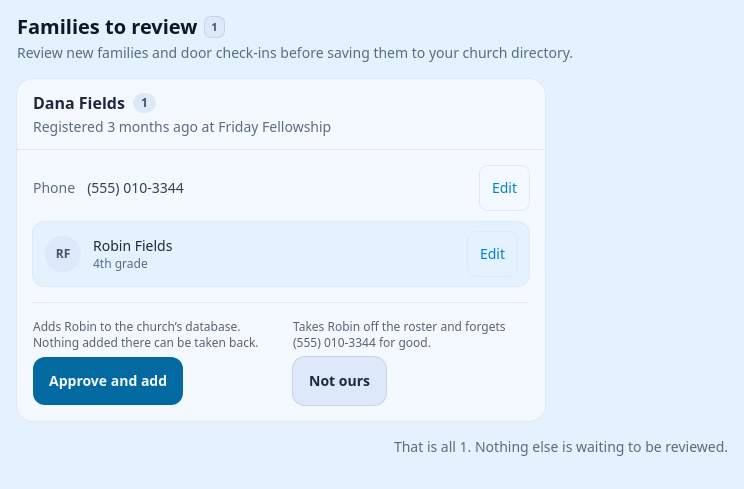
Scenario: the two decisions › cancels instead of sending when the same spot is pressed twice
The width and height of the screenshot is (744, 489).
Click the button "Approve and add".
click(108, 381)  # box [33,357,183,405]
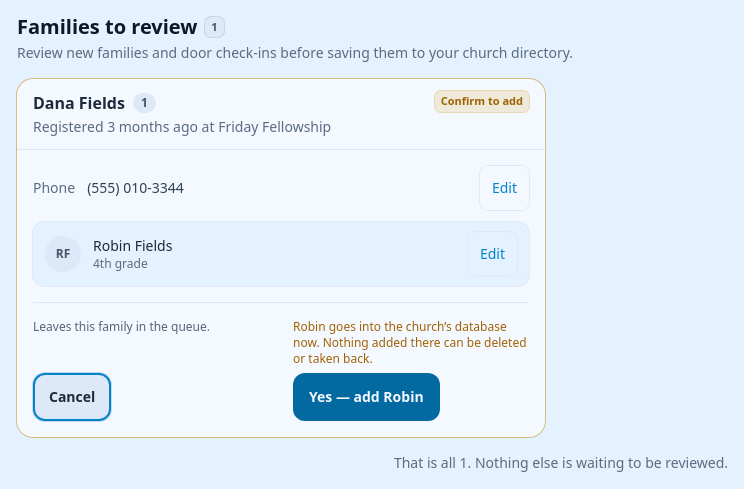
// The rectangle the finger just left now holds Cancel.
Click the button "Cancel".
click(72, 397)  # box [33,373,111,421]
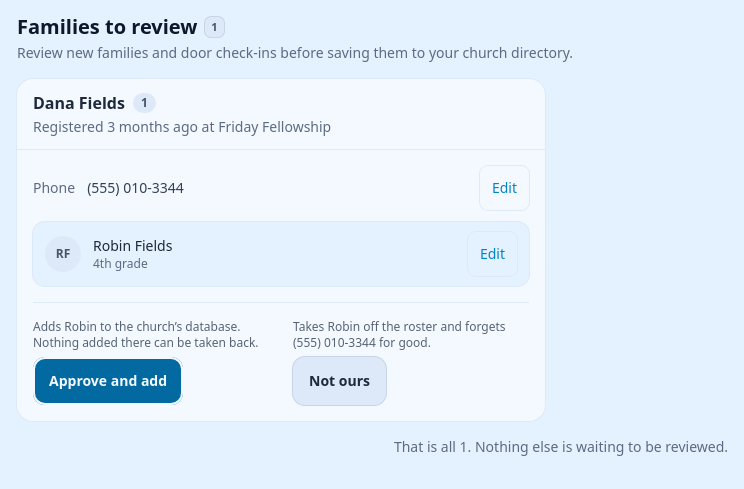
Expected: the button "Approve and add" is shown, [33,357,183,405]
